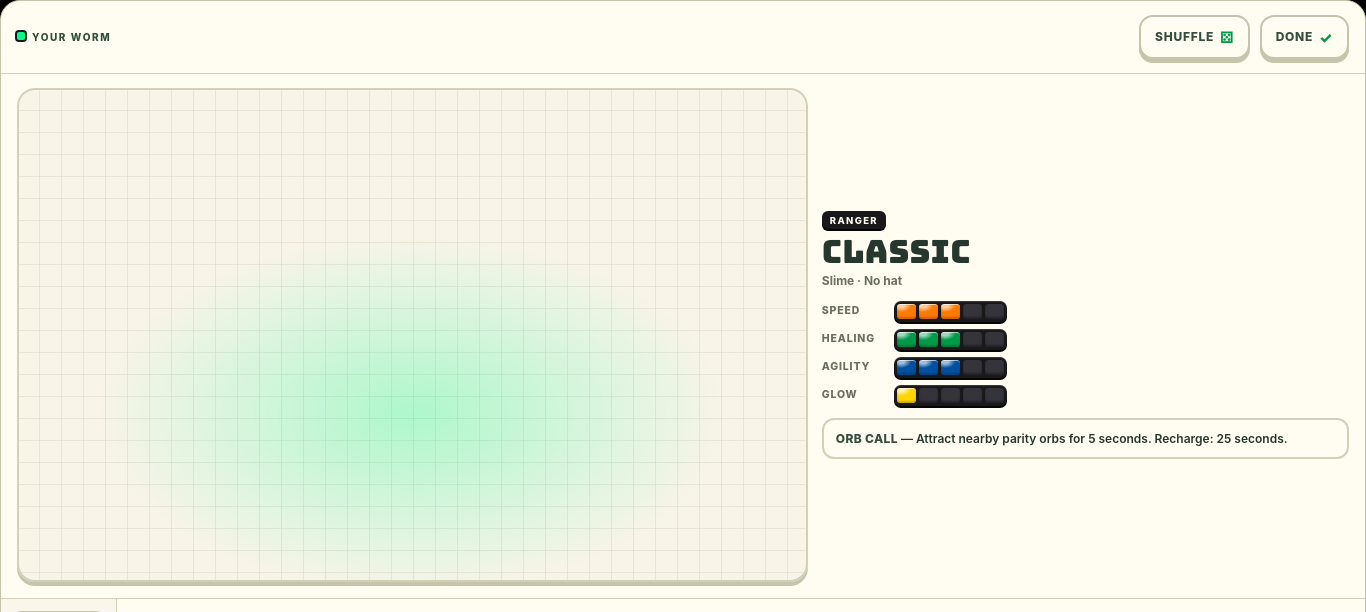
Test case: shuffles into owned pieces only, with one cue, and shows stats as sticker strips
The width and height of the screenshot is (1366, 612).
Click the button "Shuffle ⚄": (1194, 37) [1139,15,1250,59]
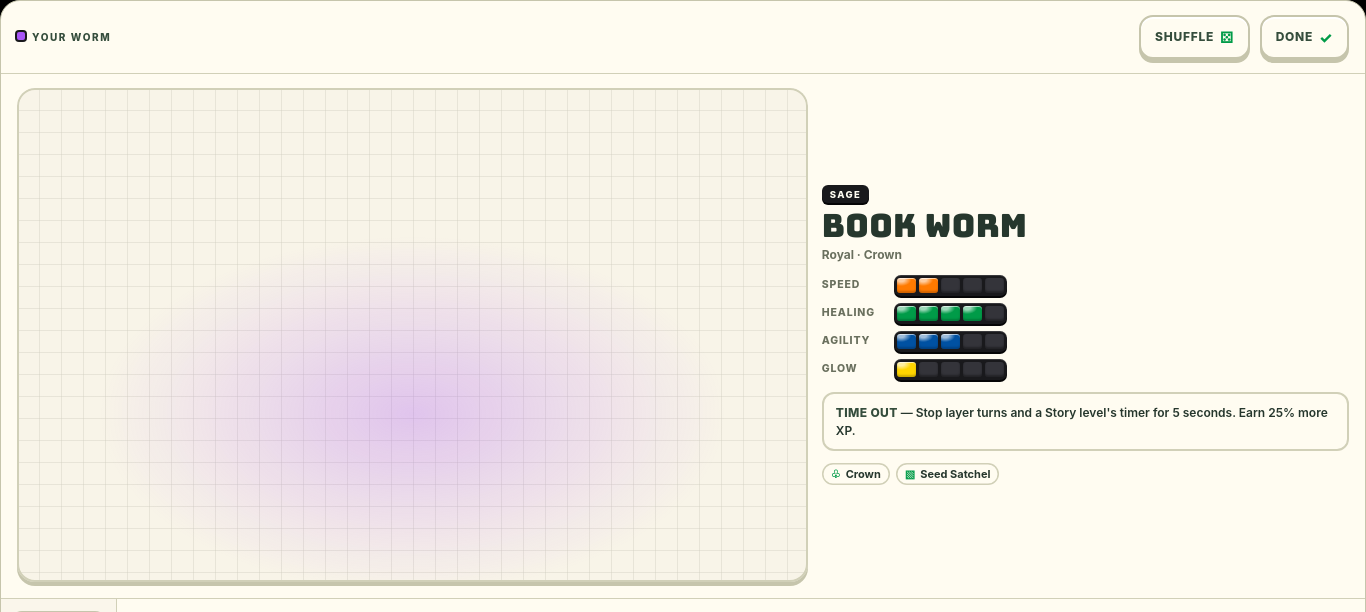
Now the text with class "worm-profile-type" reads "Sage", box [830,189,861,200]
